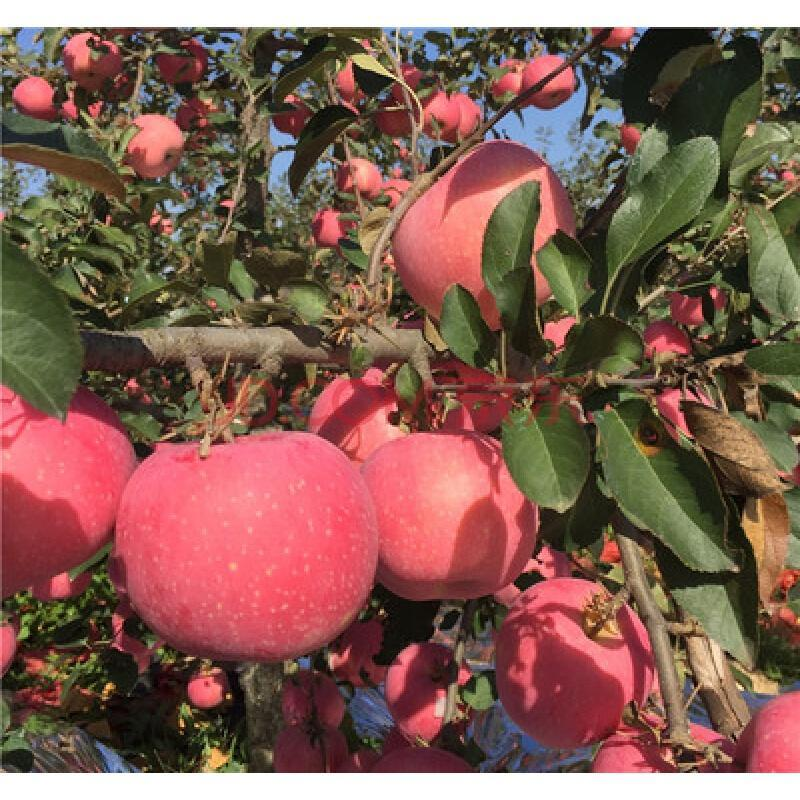apple: (113, 430, 376, 664), (387, 136, 577, 333), (1, 373, 136, 597), (361, 426, 536, 597), (492, 573, 662, 747), (119, 111, 186, 179), (64, 32, 122, 92), (522, 56, 573, 112), (410, 89, 463, 140)
